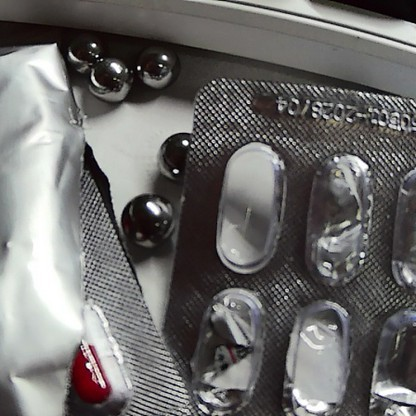ironball: (154, 118, 217, 188), (120, 179, 170, 243), (84, 56, 137, 101), (48, 33, 107, 73), (134, 40, 182, 88)
